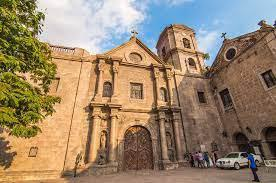san_agustin_church_intramuros_manila: (88, 18, 225, 168)
